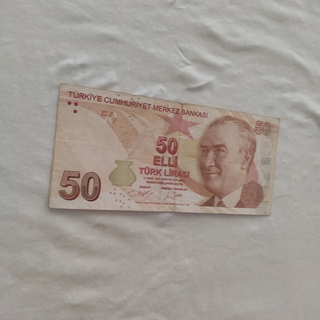50TLFront: (47, 83, 280, 216)
